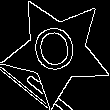O_S: (31, 21, 83, 81)
